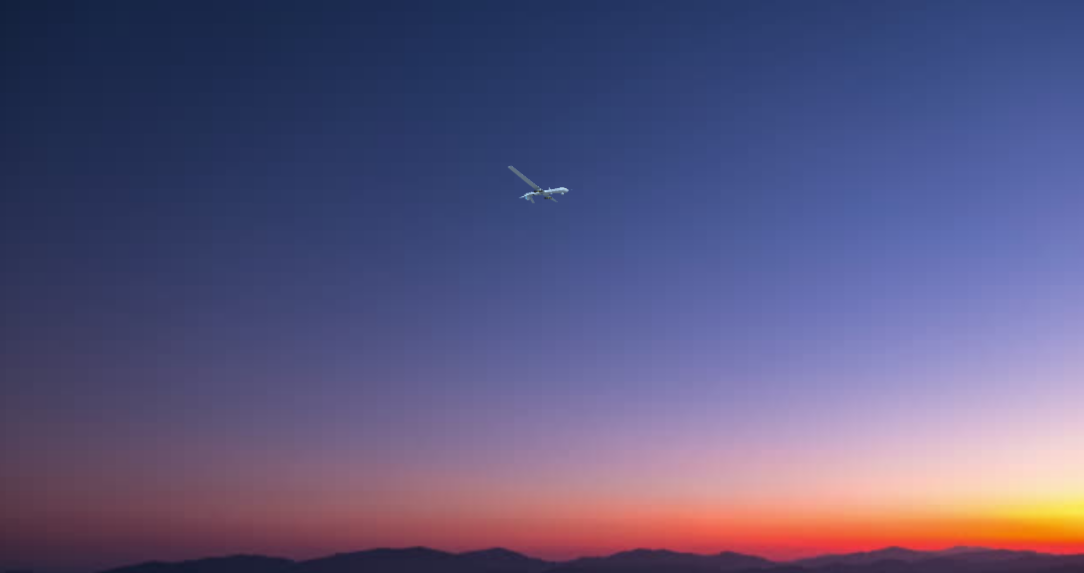military drone: (507, 165, 573, 204)
